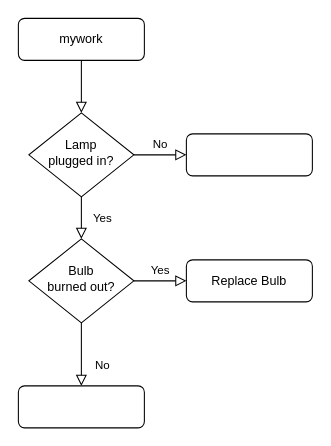
Image size: 331x446. Some labels were removed from this diagram. The shapes that lost their labels are listed below. From the top down, each one's centre as x and y in pixels, then its label:
the point at 248,154: Plug in lamp
the point at 80,406: Repair Lamp
